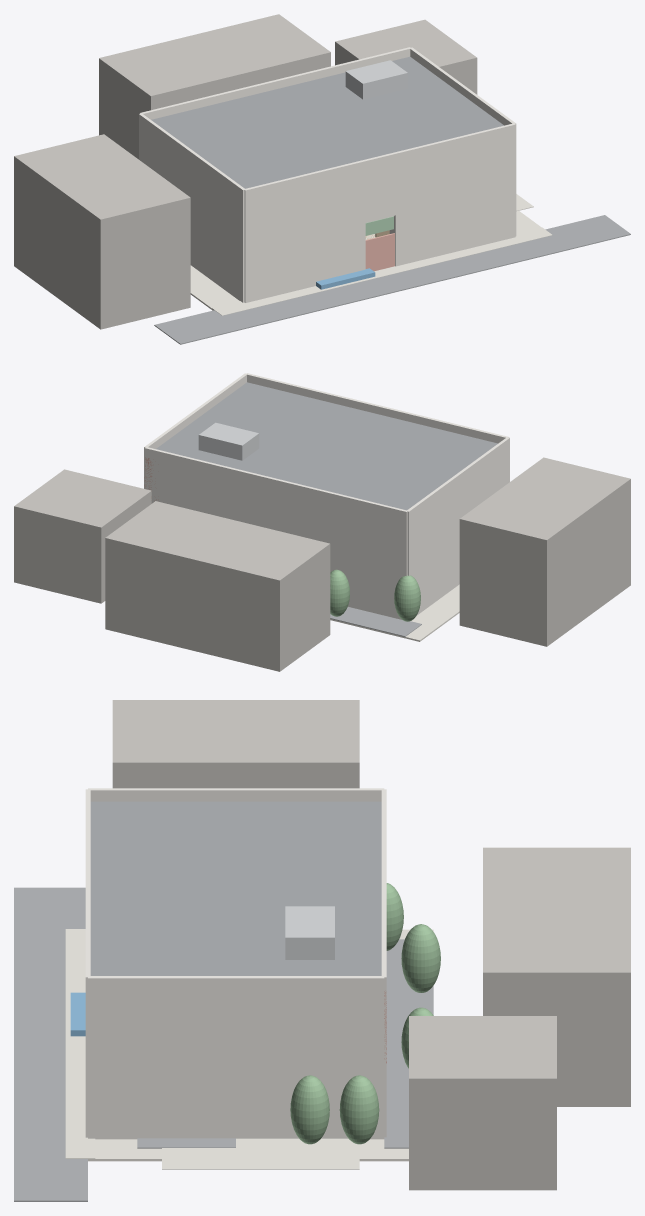
3 renders of one model, top to bottom at view 1: azimuth 30°, elevation 25°; view 2: azimuth 150°, elevation 25°; view 3: azimuth 270°, elevation 25°, orthographic. The views are drawn at different scales.
Visible parts, largest first — view 1: Site_Neighbor_W, Slab_Roof, Site_Neighbor_N, Wall_F2_S, Site_Road_South, Wall_F1_S_Right, Wall_F1_S_Left, Wall_F2_W, Site_Neighbor_NE, Roof_Parapet_S, Wall_F1_W, Roof_Parapet_N (+7 smaller); view 2: Site_Neighbor_N, Site_Neighbor_W, Slab_Roof, Site_Neighbor_NE, Wall_F2_N, Wall_F2_W, Roof_Parapet_N, Wall_F1_N_Main, Roof_Parapet_S, Wall_F1_W, Roof_MEPPenthouse, Site_Ground (+5 smaller); view 3: Slab_Roof, Site_Neighbor_N, Site_Neighbor_NE, Wall_F2_E, Site_Neighbor_W, Site_Road_South, Wall_F1_E, Site_Plaza_E, Roof_Parapet_E, Site_ServiceDrive_N, Site_Sidewalk_S, Roof_Parapet_W (+10 smaller).
Boxes of the visible parts, <box> form: Site_Neighbor_W: <box>14,134,190,329</box>; Slab_Roof: <box>151,56,503,188</box>; Site_Neighbor_N: <box>99,14,330,159</box>; Wall_F2_S: <box>244,134,515,251</box>; Site_Road_South: <box>154,215,630,344</box>; Wall_F1_S_Right: <box>394,186,515,266</box>; Wall_F1_S_Left: <box>244,222,365,302</box>; Wall_F2_W: <box>139,124,244,251</box>; Site_Neighbor_NE: <box>335,19,477,94</box>; Roof_Parapet_S: <box>244,123,515,199</box>; Wall_F1_W: <box>190,213,244,302</box>; Roof_Parapet_N: <box>139,47,411,119</box>; Site_Neighbor_N: <box>105,501,330,671</box>; Site_Neighbor_W: <box>459,457,630,646</box>; Slab_Roof: <box>156,382,497,510</box>; Site_Neighbor_NE: <box>14,469,151,603</box>; Wall_F2_N: <box>144,457,407,571</box>; Wall_F2_W: <box>407,447,509,570</box>; Roof_Parapet_N: <box>144,447,407,520</box>; Wall_F1_N_Main: <box>330,553,407,619</box>; Roof_Parapet_S: <box>246,373,509,443</box>; Wall_F1_W: <box>407,534,459,615</box>; Roof_MEPPenthouse: <box>198,422,259,460</box>; Site_Ground: <box>330,584,459,641</box>; Slab_Roof: <box>90,801,381,975</box>; Site_Neighbor_N: <box>483,847,630,1106</box>; Site_Neighbor_NE: <box>409,1016,556,1190</box>; Wall_F2_E: <box>88,991,384,1065</box>; Site_Neighbor_W: <box>112,700,359,788</box>; Site_Road_South: <box>14,887,87,1201</box>; Wall_F1_E: <box>88,1065,384,1139</box>; Site_Plaza_E: <box>162,1138,359,1169</box>; Roof_Parapet_E: <box>88,976,384,991</box>; Site_ServiceDrive_N: <box>384,939,433,1148</box>; Site_Sidewalk_S: <box>65,929,95,1159</box>; Roof_Parapet_W: <box>88,788,384,801</box>.
Bounding box in the file's own units: 33 × 7.95 × 25.
